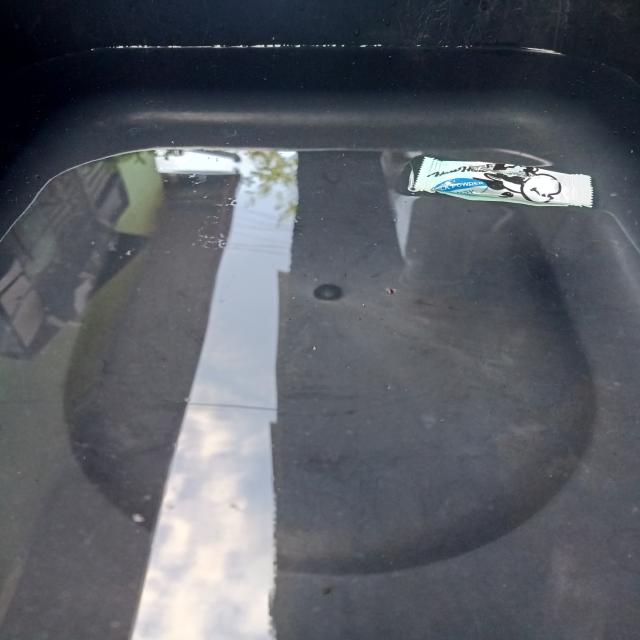Plastic Wrapper: (406, 148, 615, 216)
